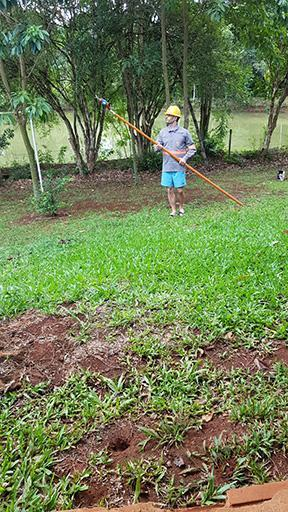helmet: (163, 105, 181, 126)
